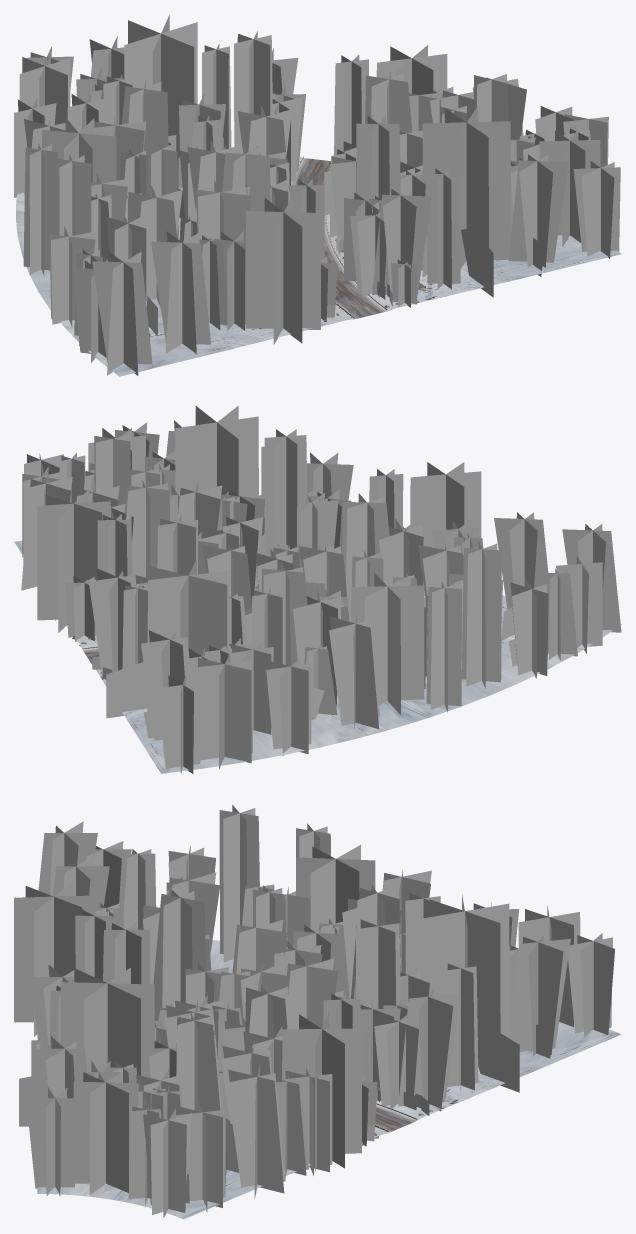
The model's file is road_snow_3_45degree.FBX.
The picture shows the model from 3 angles, top to bottom: view 1: azimuth 30°, elevation 25°; view 2: azimuth 150°, elevation 25°; view 3: azimuth 270°, elevation 25°; orthographic projection. The views are drawn at different scales.
Visible parts, largest first — view 1: road004, snowtrees019, snowtrees160, snowtrees044, snowtrees072, snowtrees066, snowtrees177, snowtrees190, snowtrees155, snowtrees159, snowtrees070, snowtrees153 (+52 smaller); view 2: road004, snowtrees250, snowtrees135, snowtrees160, snowtrees044, snowtrees064, snowtrees075, snowtrees153, snowtrees254, snowtrees019, snowtrees070, snowtrees076 (+44 smaller); view 3: snowtrees044, snowtrees160, snowtrees135, road004, snowtrees019, snowtrees191, snowtrees182, snowtrees061, snowtrees132, snowtrees039, snowtrees064, snowtrees250 (+53 smaller).
Part boxes in pixels (<box>): road004: <box>16,157,621,376</box>; snowtrees019: <box>245,196,320,344</box>; snowtrees160: <box>422,106,510,268</box>; snowtrees044: <box>124,15,197,160</box>; snowtrees072: <box>92,251,152,375</box>; snowtrees066: <box>151,231,211,353</box>; snowtrees177: <box>508,154,568,267</box>; snowtrees190: <box>573,161,620,258</box>; snowtrees155: <box>372,188,431,299</box>; snowtrees159: <box>427,168,460,289</box>; snowtrees070: <box>23,143,58,275</box>; snowtrees153: <box>356,115,400,200</box>; road004: <box>14,540,621,773</box>; snowtrees250: <box>351,573,424,714</box>; snowtrees135: <box>37,489,110,632</box>; snowtrees160: <box>175,406,258,498</box>; snowtrees044: <box>147,559,229,711</box>; snowtrees064: <box>461,541,501,688</box>; snowtrees075: <box>196,653,252,769</box>; snowtrees153: <box>264,429,307,556</box>; snowtrees254: <box>329,616,379,729</box>; snowtrees019: <box>410,462,481,585</box>; snowtrees070: <box>426,581,461,712</box>; snowtrees076: <box>266,658,311,755</box>; snowtrees044: <box>420,894,509,1038</box>; snowtrees160: <box>60,967,154,1075</box>; snowtrees135: <box>282,1012,361,1170</box>; road004: <box>37,940,621,1219</box>; snowtrees019: <box>14,881,93,1036</box>; snowtrees191: <box>73,1072,138,1195</box>; snowtrees182: <box>227,1063,285,1198</box>; snowtrees061: <box>509,934,570,1056</box>; snowtrees132: <box>153,890,205,1020</box>; snowtrees039: <box>398,989,460,1111</box>; snowtrees064: <box>219,804,259,962</box>; snowtrees250: <box>296,845,375,932</box>.
Size of the model in its own units: 27125 by 7229 by 23957.
